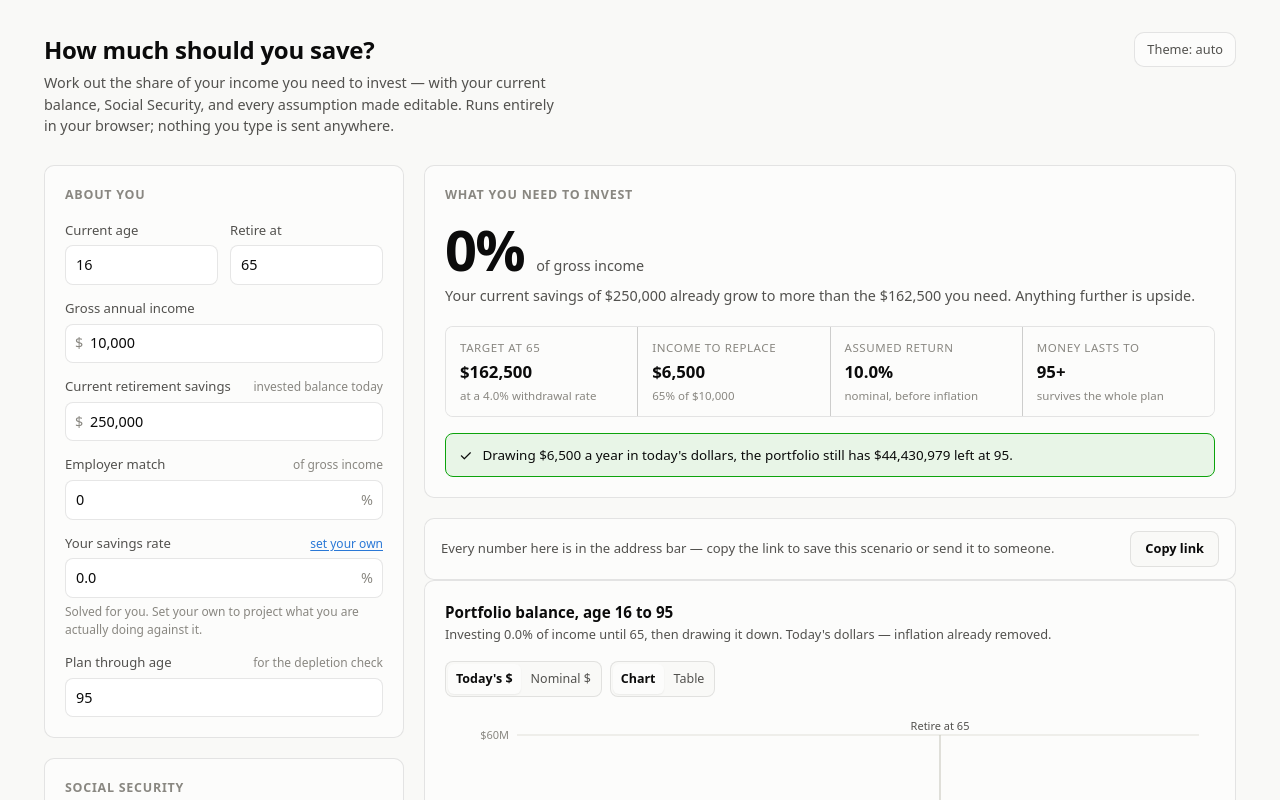
Test: currency formatting › separates a seven-figure balance
Replace the text in the field labelled "Current retirement savings invested balance today" with "1250000": (224, 422) 65,402 -> 383,441
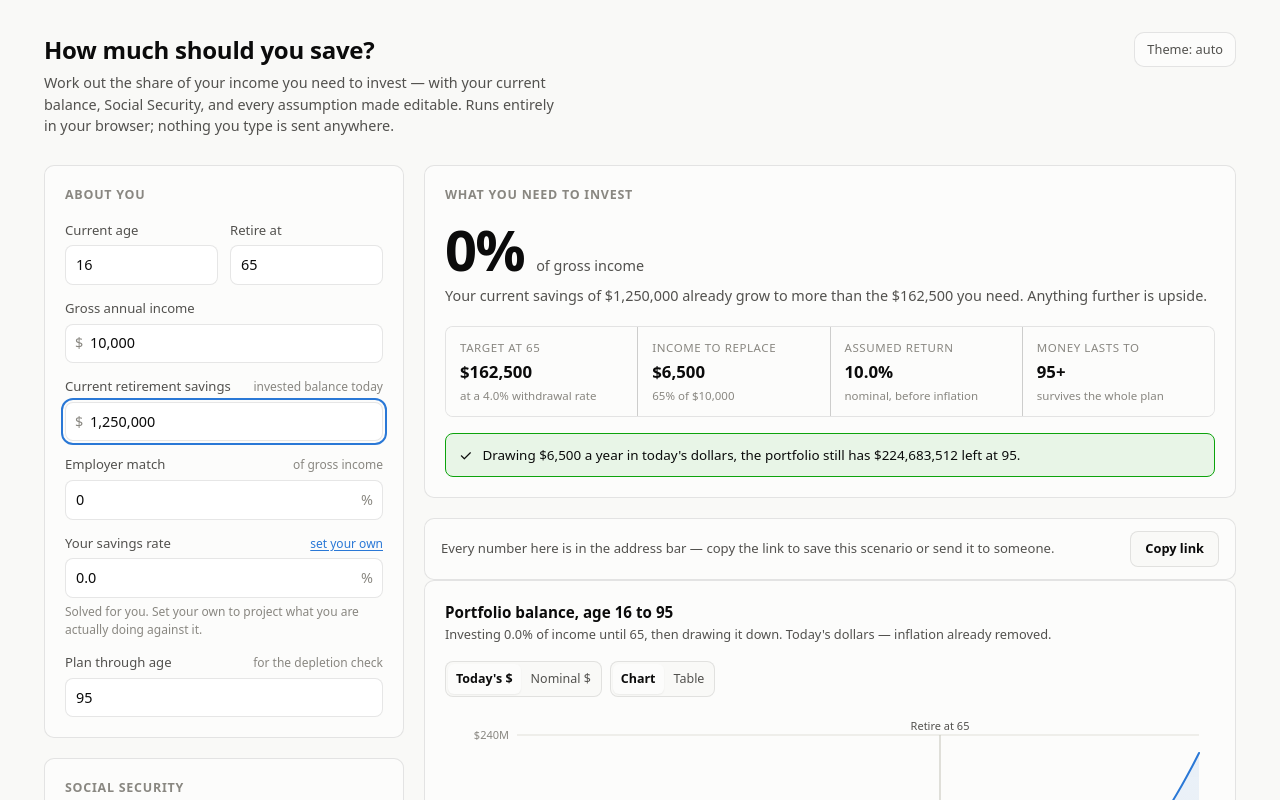
Expected: the field labelled "Current retirement savings invested balance today" holds "1,250,000", 65,402 -> 383,441
